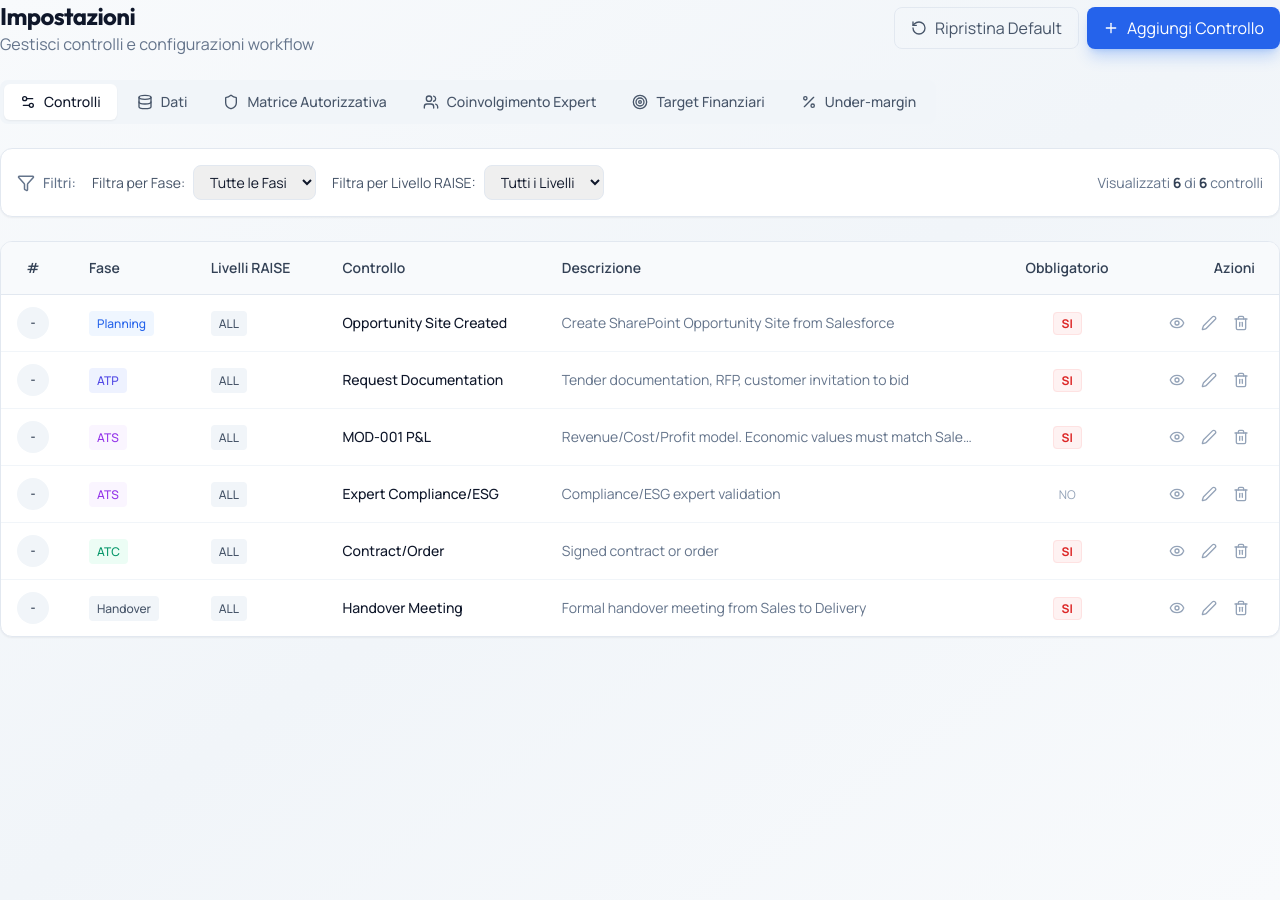
Settings › Modal Interaction › should close modal when Cancel clicked
The image size is (1280, 900).
Click the button "Aggiungi Controllo" at (1183, 28), box [1087,7,1279,49]
(page scrolled)
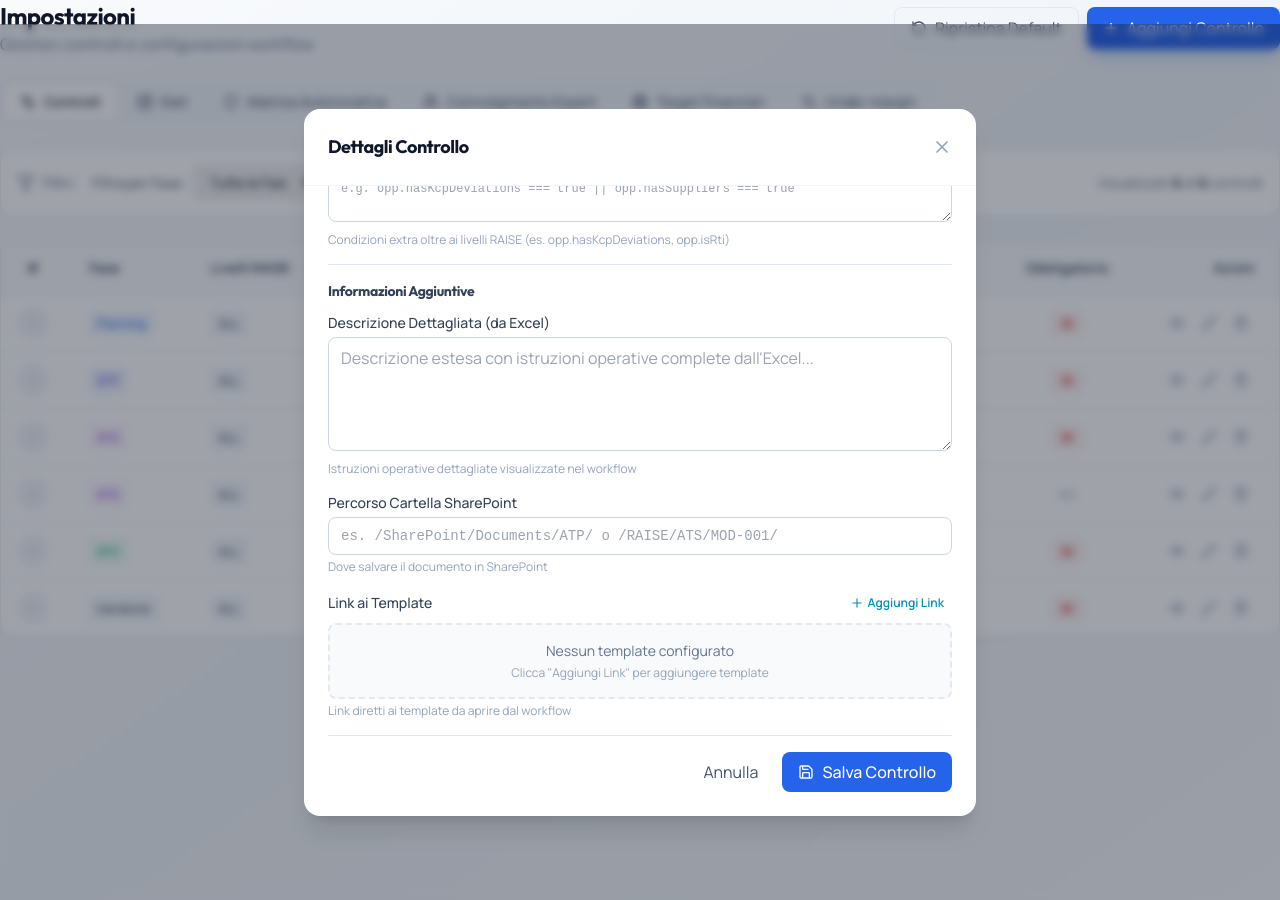
Click the button "Annulla" at (731, 772), box [687,752,774,792]
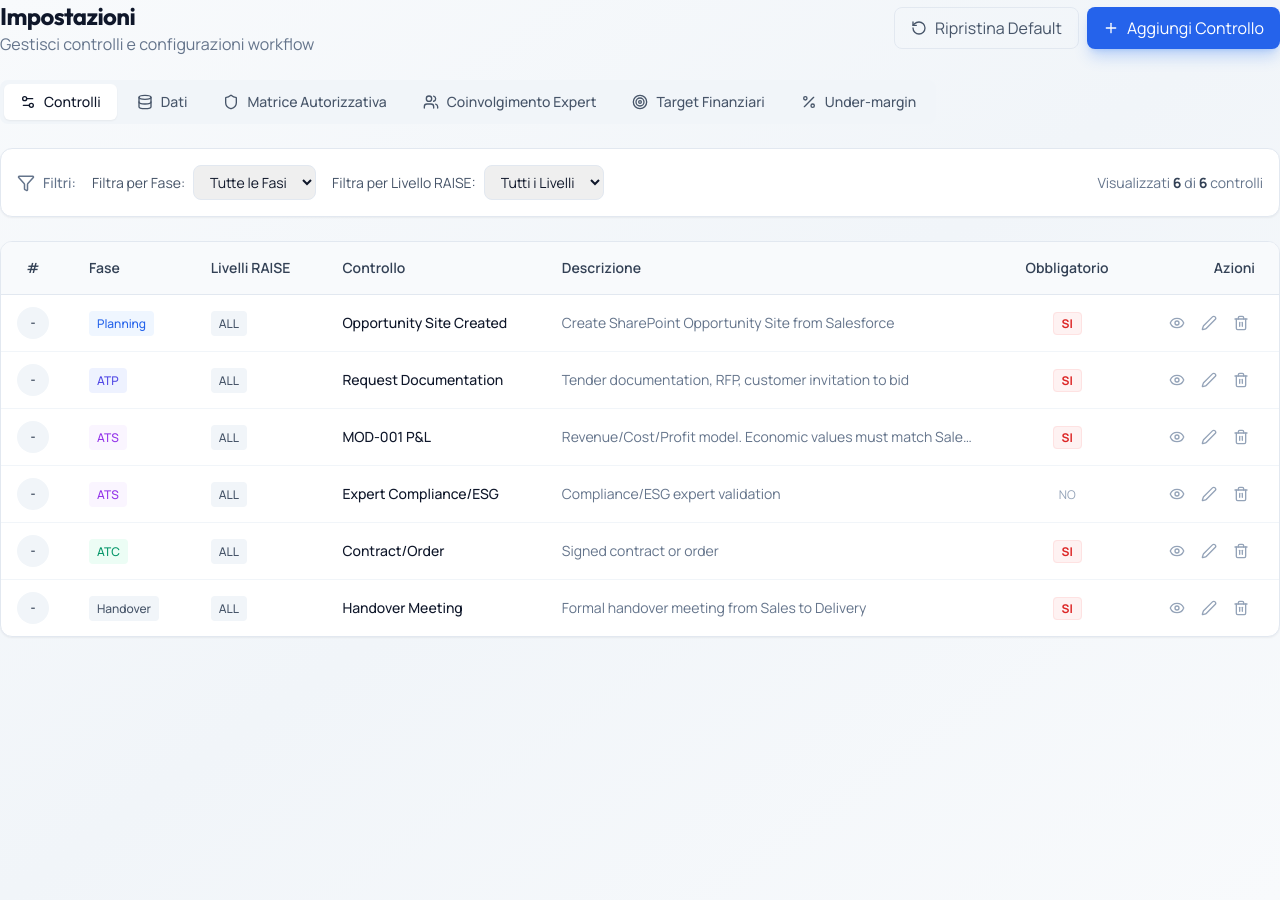
Expected: the heading "Dettagli Controllo" is gone
